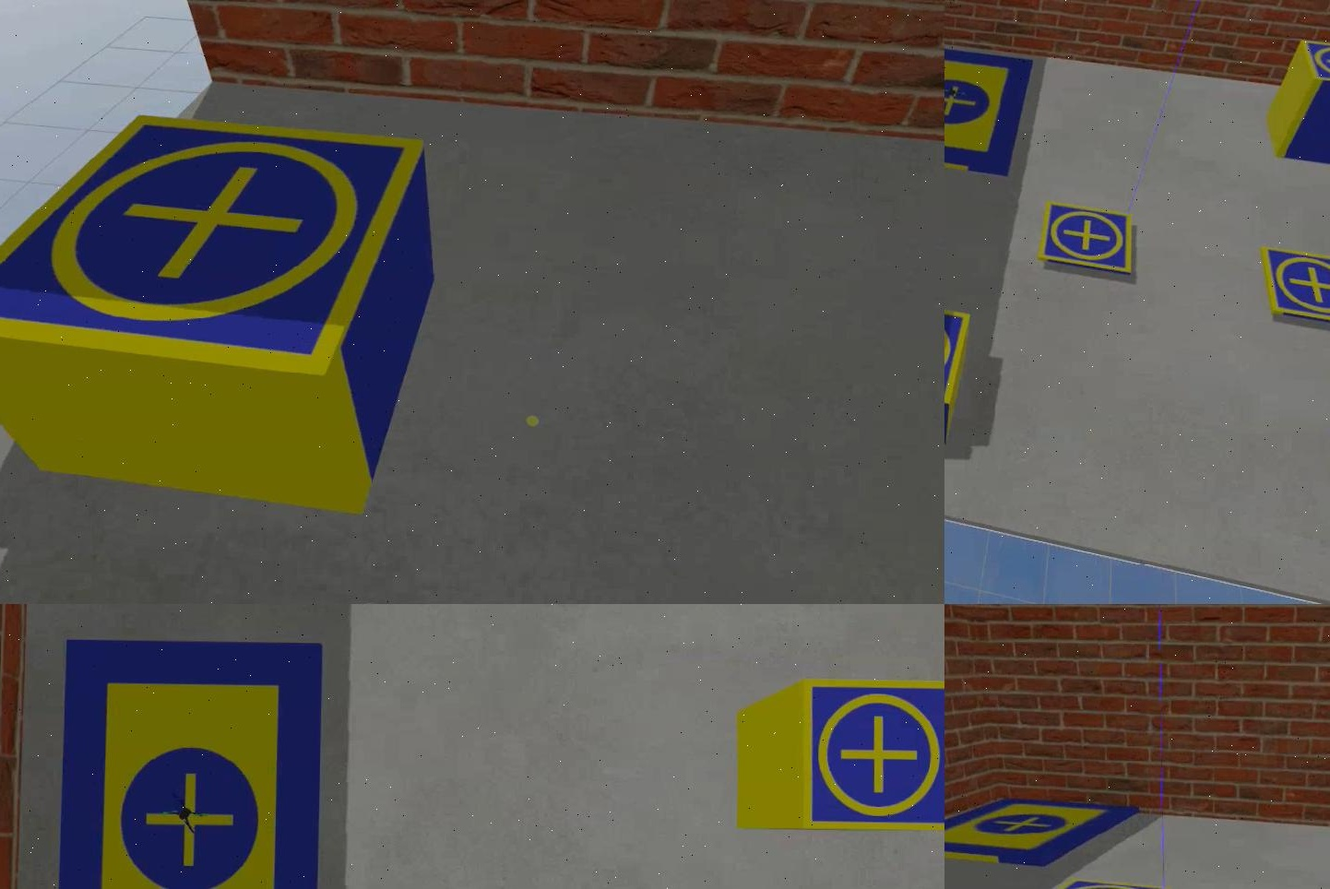large_base: (51, 634, 323, 889), (944, 790, 1135, 868), (944, 48, 1027, 171)
small_base: (0, 116, 432, 380), (799, 676, 944, 834), (1035, 201, 1135, 277), (1258, 251, 1328, 326), (1296, 48, 1328, 96)
